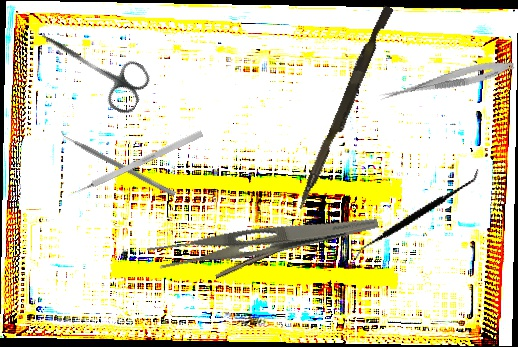Dressing Forceps: (145, 192, 380, 282)
Hook Surgical: (66, 130, 204, 199)
Iris Scissors: (27, 14, 156, 118)
Micro Scissor: (377, 54, 517, 109)
Pusher: (296, 3, 394, 213)
Scalpel Handle: (213, 229, 316, 281)
Spatula Surgical: (352, 136, 481, 291), (57, 128, 179, 197)
